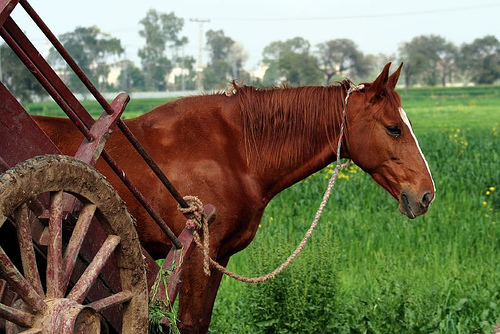horse: (1, 60, 437, 334)
